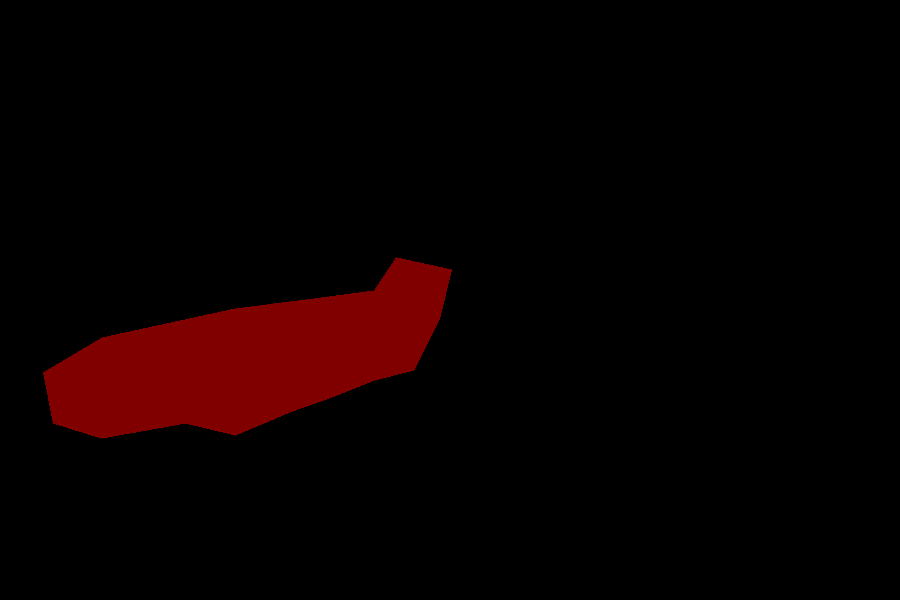fire: (43, 257, 451, 438)
